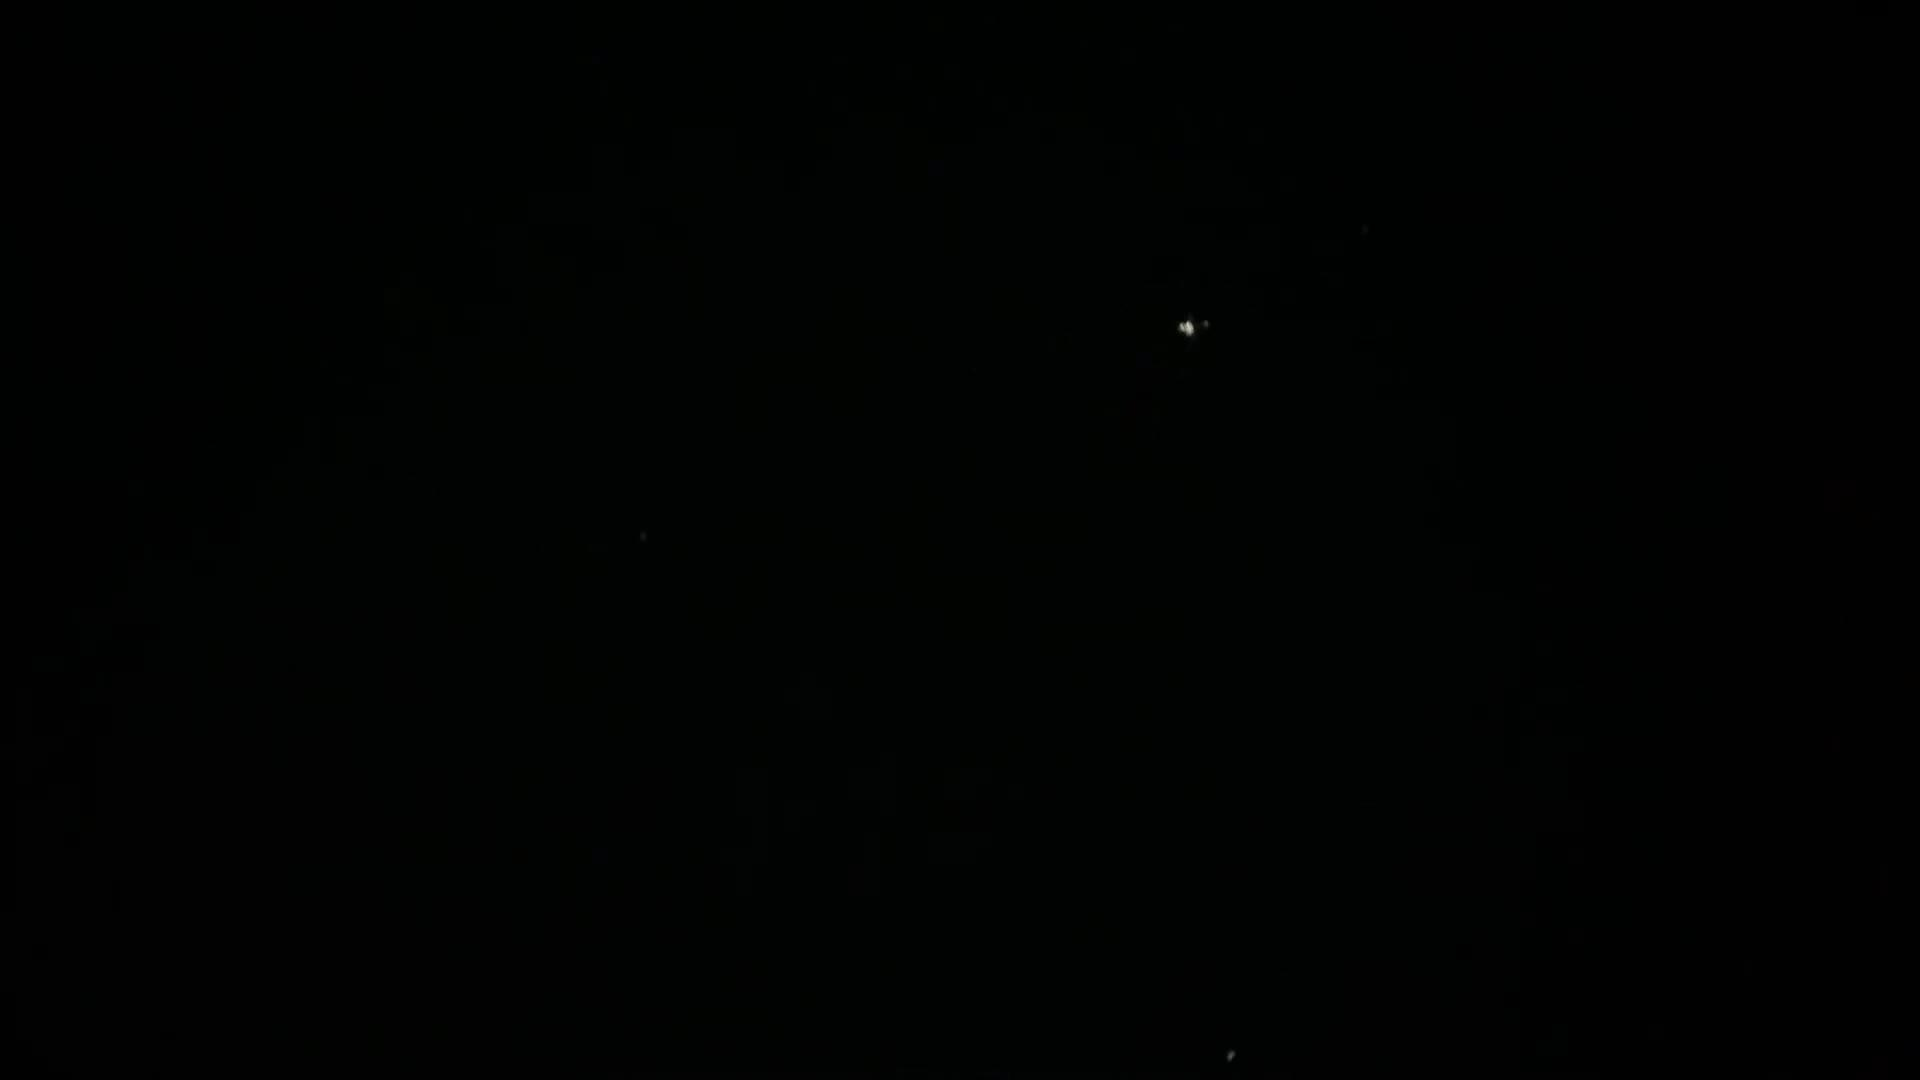Plane: (1160, 311, 1225, 353)
